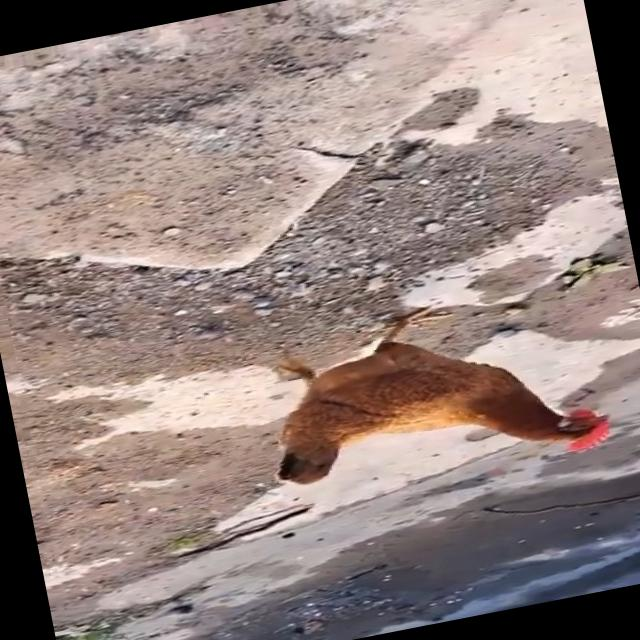walking: (225, 265, 628, 523)
